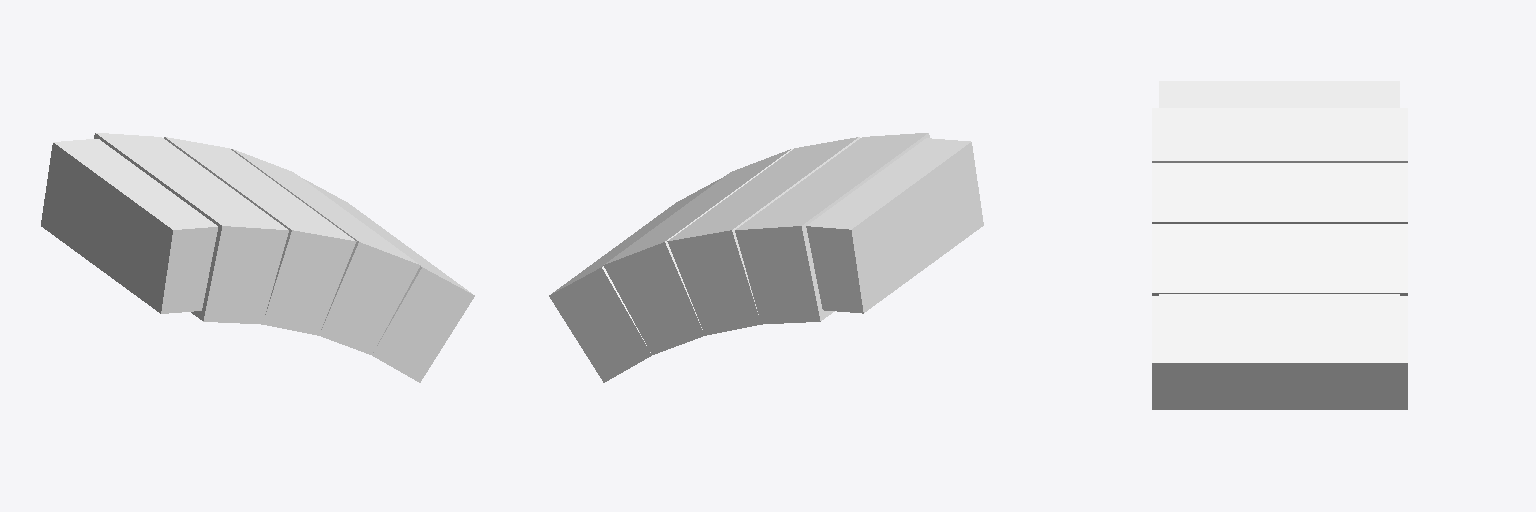
Rendered from generic_segmental_arch_3.obj.
3 views of the same model, side by side, from view 1: azimuth 30°, elevation 25°; view 2: azimuth 150°, elevation 25°; view 3: azimuth 270°, elevation 25° (orthographic).
Parts seen in each view (by area): view 1: cube.053, cube.057, cube.056, cube.055, cube.054; view 2: cube.053, cube.057, cube.056, cube.055, cube.054; view 3: cube.054, cube.055, cube.056, cube.057, cube.053.
Part boxes in pixels (x1,y1,x2,y2): cube.053: (41,139,217,313); cube.057: (94,133,288,324); cube.056: (164,137,356,335); cube.055: (231,149,420,354); cube.054: (299,176,474,382); cube.053: (806,138,983,313); cube.057: (735,133,929,324); cube.056: (667,137,859,335); cube.055: (603,149,792,354); cube.054: (549,176,724,382); cube.054: (1152,296,1407,409); cube.055: (1152,224,1407,295); cube.056: (1152,163,1407,223); cube.057: (1152,108,1407,162); cube.053: (1159,81,1399,107).
Bounding box in the file's own units: 1.59 × 1.02 × 1.13.